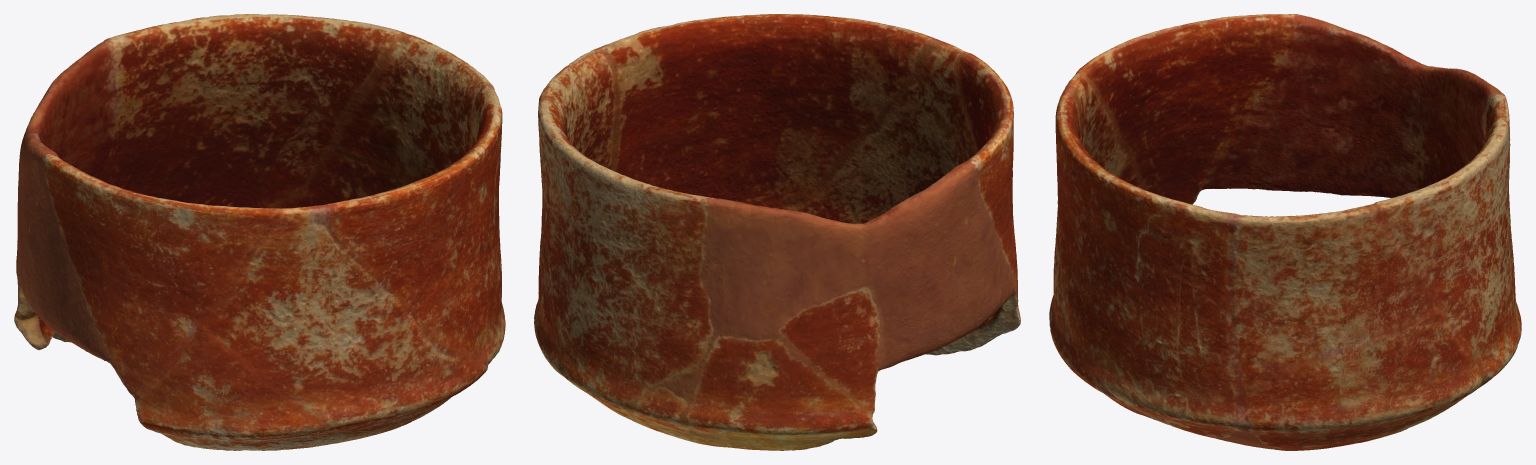
3 views of the same model, side by side, from view 1: azimuth 30°, elevation 25°; view 2: azimuth 150°, elevation 25°; view 3: azimuth 270°, elevation 25° (orthographic). The views are drawn at different scales.
Parts seen in each view (by area): view 1: Mesh_0.002; view 2: Mesh_0.002; view 3: Mesh_0.002.
Boxes of the visible parts, bbox=[...] form: Mesh_0.002: bbox=[14, 14, 505, 450]; Mesh_0.002: bbox=[534, 14, 1020, 450]; Mesh_0.002: bbox=[1049, 14, 1521, 450].
Bounding box in the file's own units: 0.2155 × 0.141 × 0.2141.
Materials: 1 (1 with a texture image).
